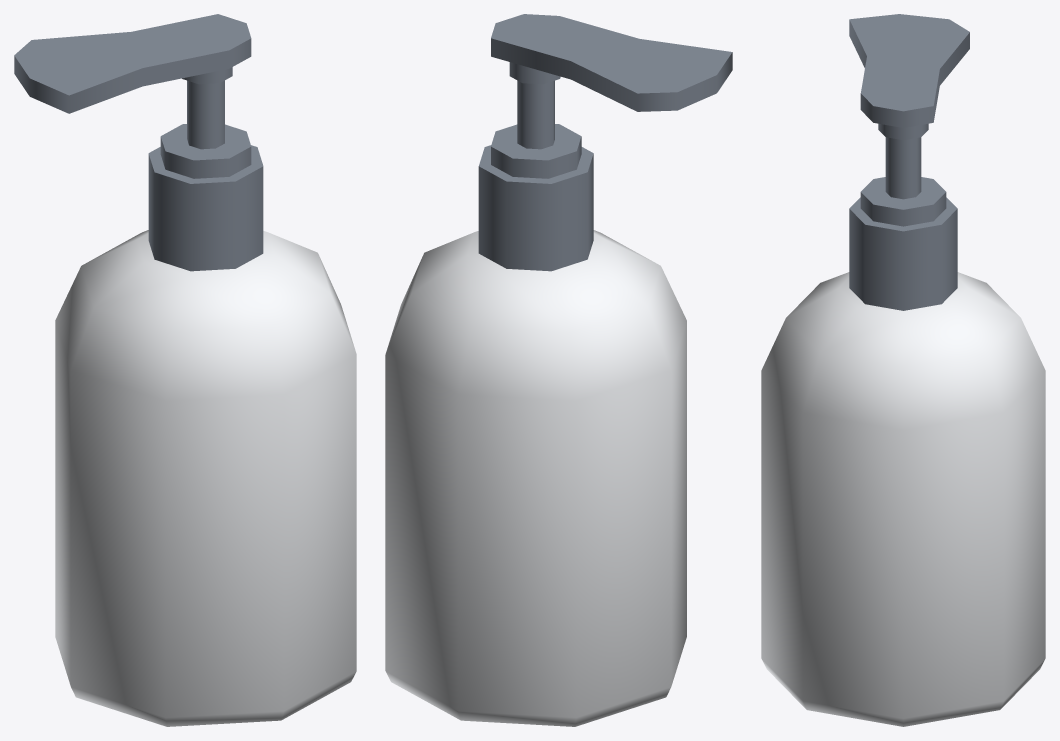
Rendered from Lotion Bottle Small.glb.
The picture shows the model from 3 angles, left to right: view 1: azimuth 30°, elevation 25°; view 2: azimuth 150°, elevation 25°; view 3: azimuth 270°, elevation 25°; orthographic projection. The views are drawn at different scales.
Parts seen in each view (by area): view 1: lotion_bottle_small.001, lotion_bottle_small_nozzle.001; view 2: lotion_bottle_small.001, lotion_bottle_small_nozzle.001; view 3: lotion_bottle_small.001, lotion_bottle_small_nozzle.001.
Boxes of the visible parts, <box> form: lotion_bottle_small.001: <box>55,124,356,726</box>; lotion_bottle_small_nozzle.001: <box>14,14,251,149</box>; lotion_bottle_small.001: <box>385,124,686,726</box>; lotion_bottle_small_nozzle.001: <box>491,14,732,149</box>; lotion_bottle_small.001: <box>761,177,1045,726</box>; lotion_bottle_small_nozzle.001: <box>849,14,969,199</box>.
Size of the model in its own units: 13.55 by 26.31 by 11.68.
1 material, 1 textured.
